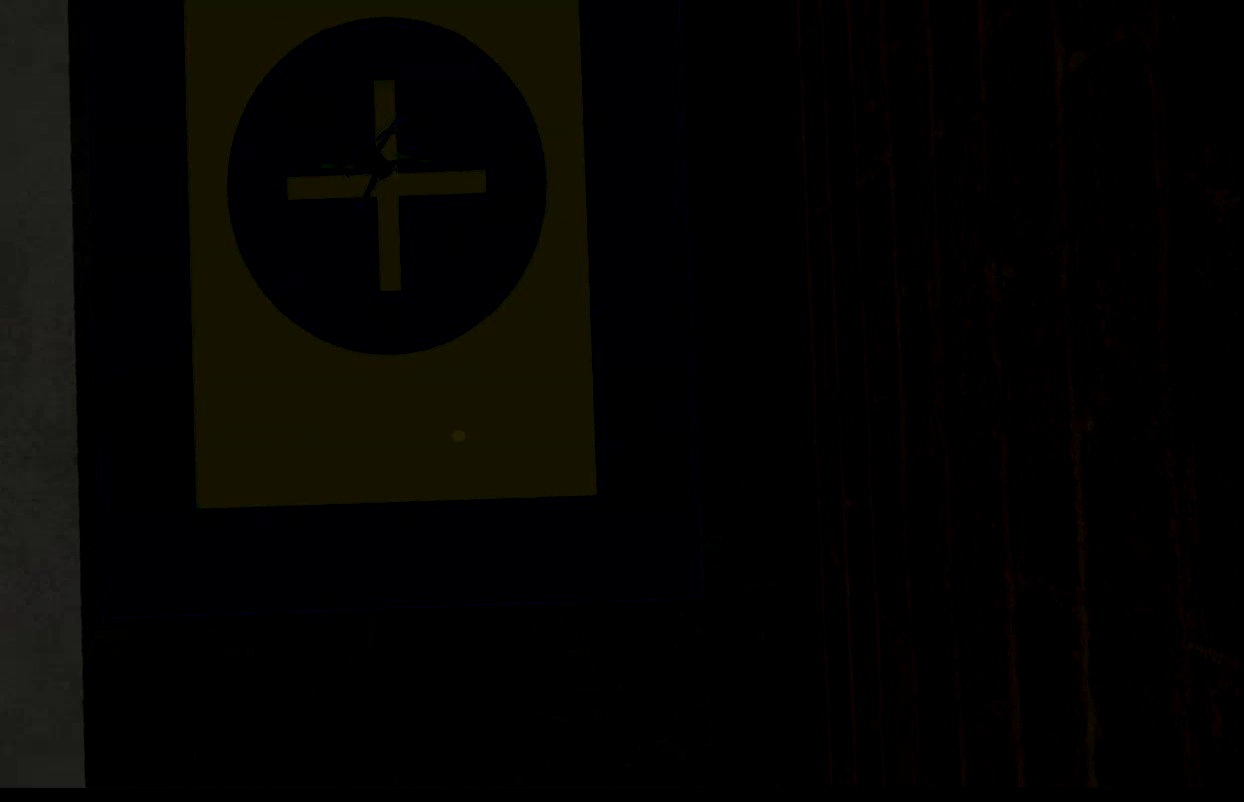large_base: (84, 1, 704, 613)
